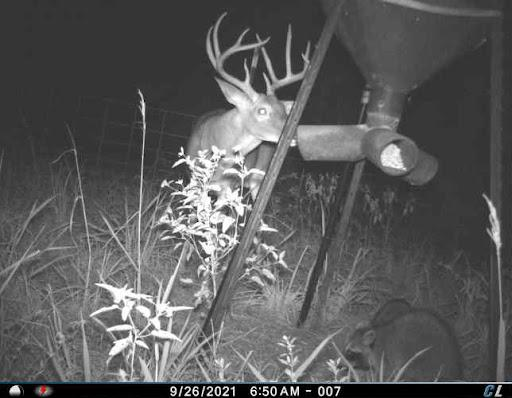Deer: (179, 1, 319, 265)
